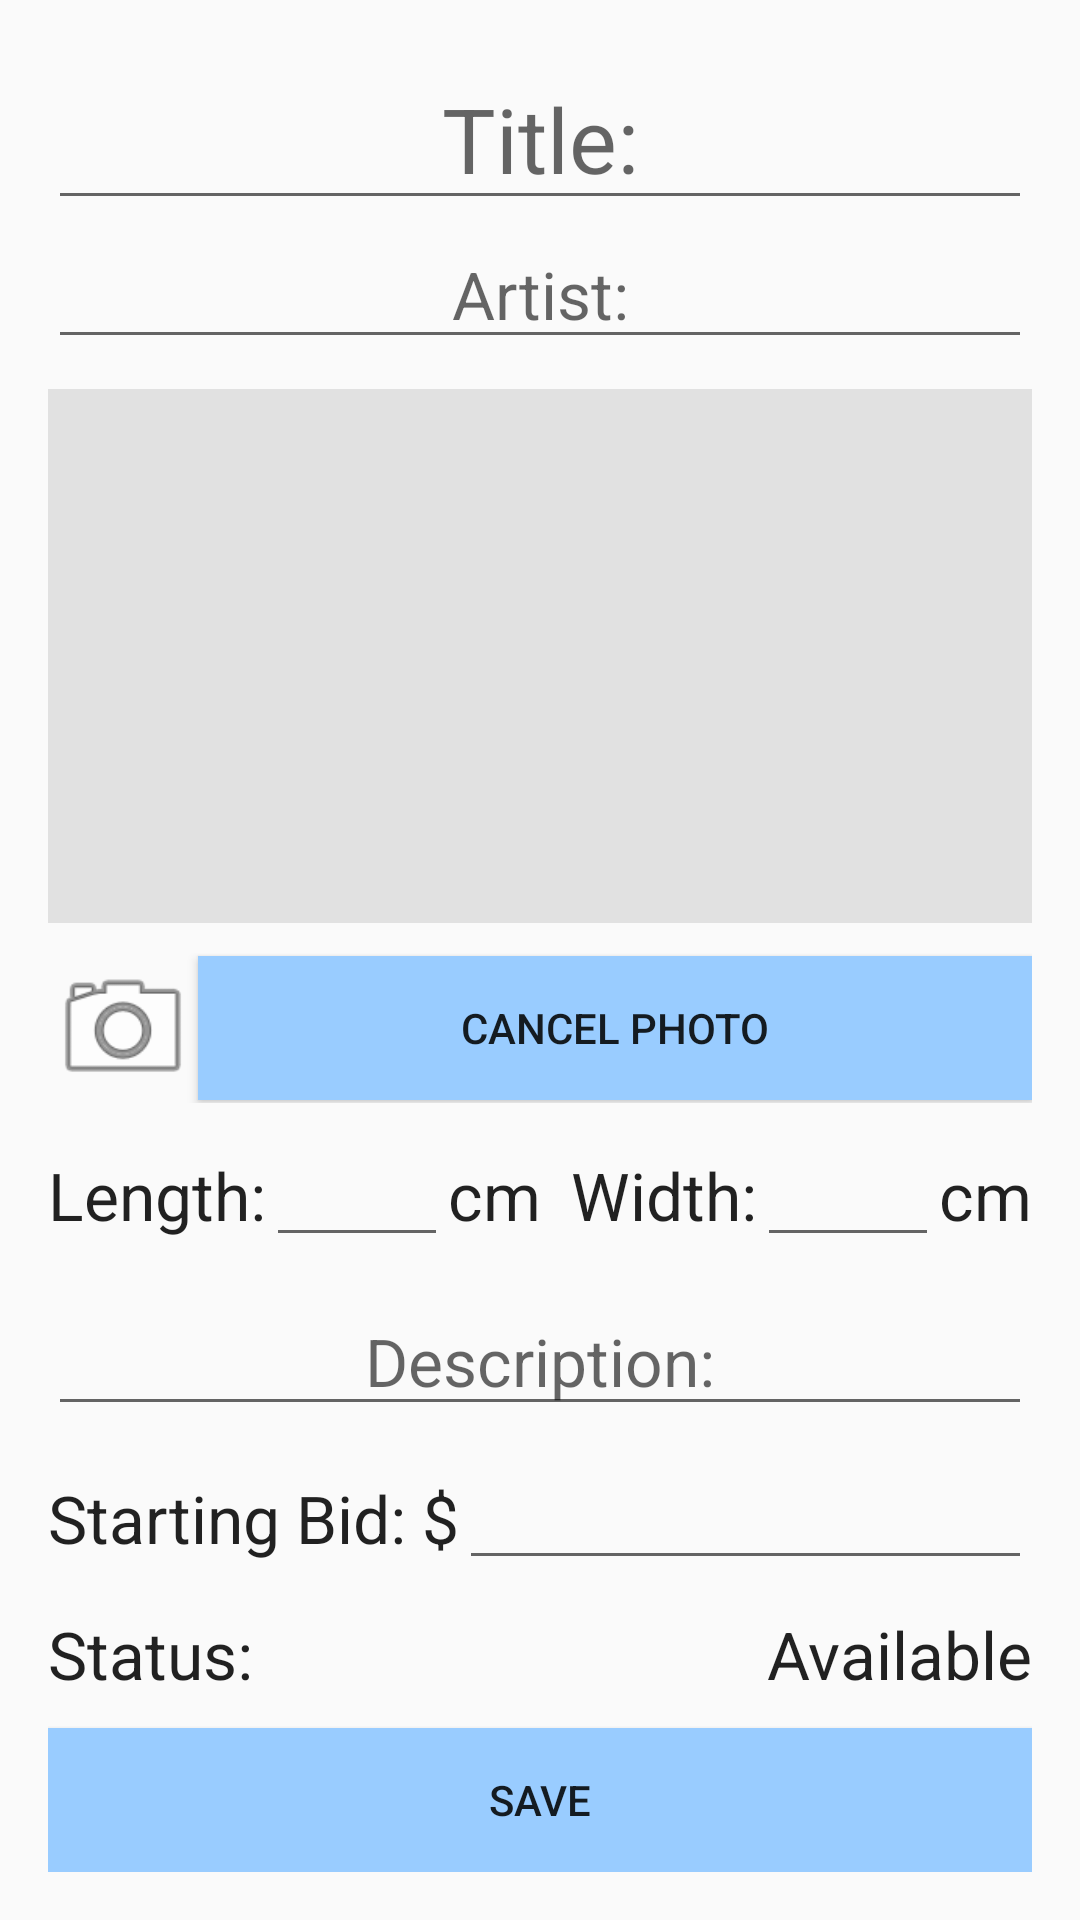

Named icons in this screenshot (1080px×1920px) and their centers, [x,y]:
camera: [123,1025]
